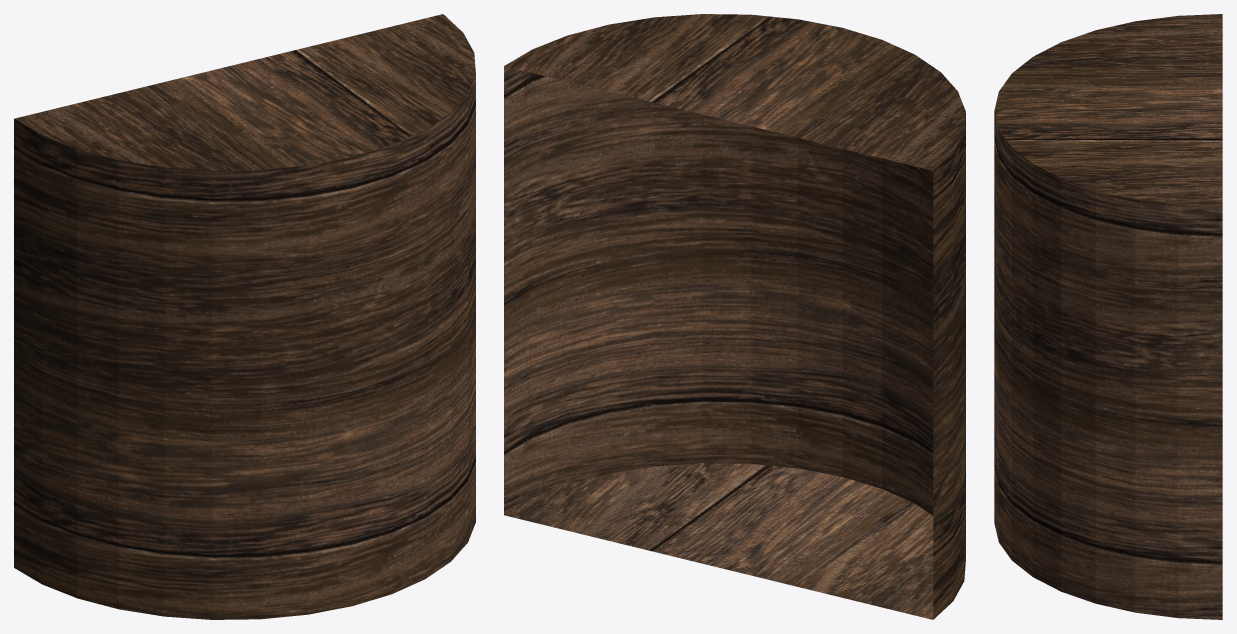
The model's file is Roof.obj.
3 renders of one model, left to right at view 1: azimuth 30°, elevation 25°; view 2: azimuth 150°, elevation 25°; view 3: azimuth 270°, elevation 25°, orthographic. The views are drawn at different scales.
Parts seen in each view (by area): view 1: Loof_円柱; view 2: Loof_円柱; view 3: Loof_円柱.
Part boxes in pixels (<box>): Loof_円柱: <box>14,14,475,619</box>; Loof_円柱: <box>504,14,965,619</box>; Loof_円柱: <box>994,14,1222,619</box>.
Size of the model in its own units: 2 by 2 by 1.
